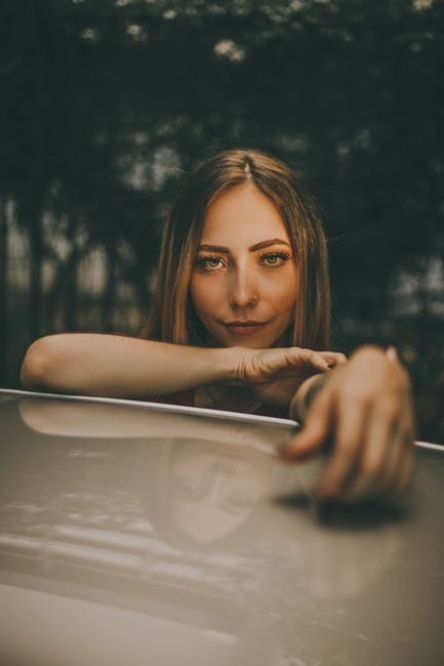face: (189, 183, 295, 345)
